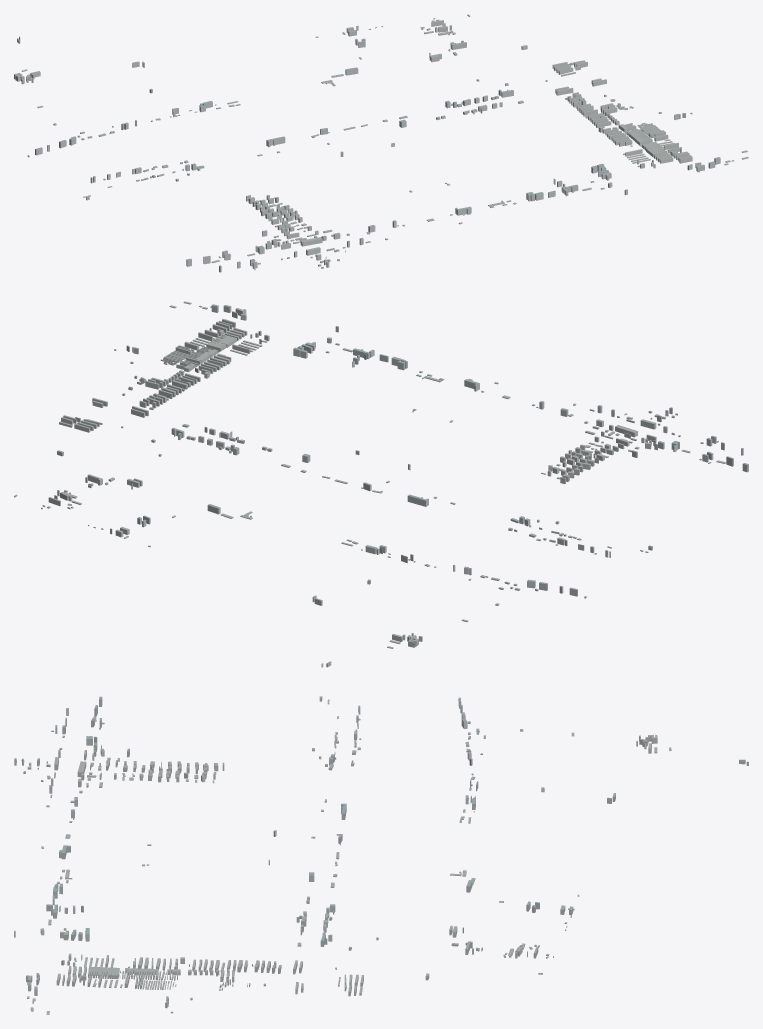
File: far.glb
3 views of the same model, one above another, from view 1: azimuth 30°, elevation 25°; view 2: azimuth 150°, elevation 25°; view 3: azimuth 270°, elevation 25° (orthographic). The views are drawn at different scales.
Bounding box in the file's own units: 2078 × 25 × 2051.
